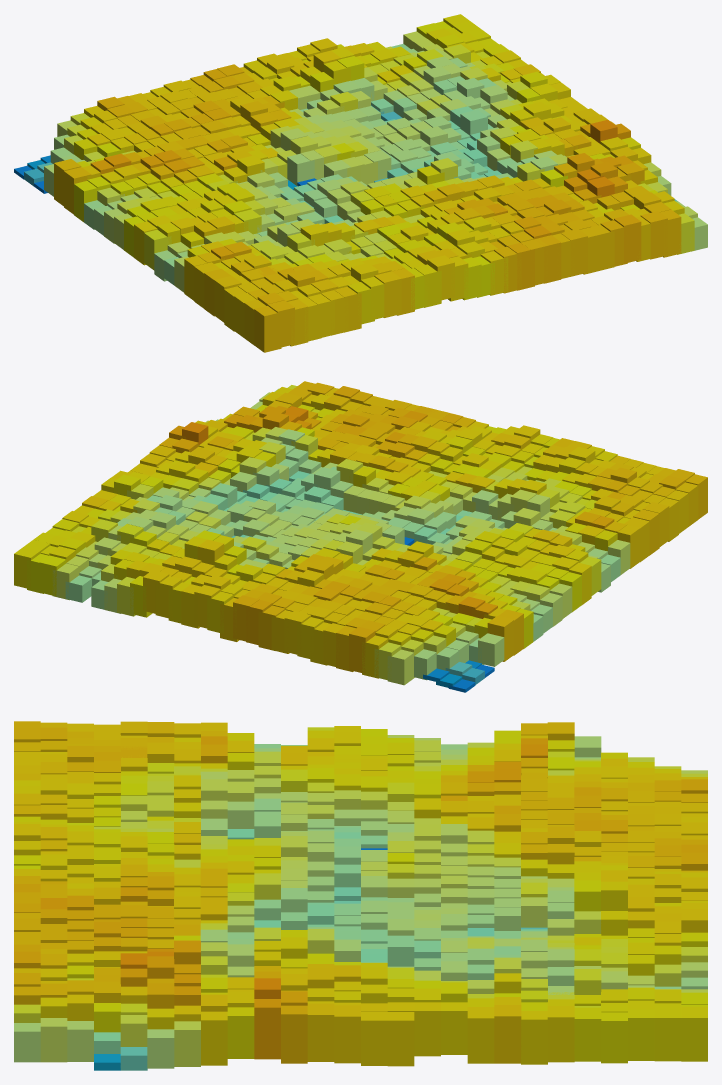
The model's file is population.glb.
The picture shows the model from 3 angles, top to bottom: view 1: azimuth 30°, elevation 25°; view 2: azimuth 150°, elevation 25°; view 3: azimuth 270°, elevation 25°; orthographic projection. The views are drawn at different scales.
Visible parts, largest first — view 1: population; view 2: population; view 3: population.
Part boxes in pixels (bbox=[...]): population: bbox=[14, 14, 707, 352]; population: bbox=[14, 381, 707, 692]; population: bbox=[14, 721, 707, 1070].
Bounding box in the file's own units: 2627 × 352 × 2594.
